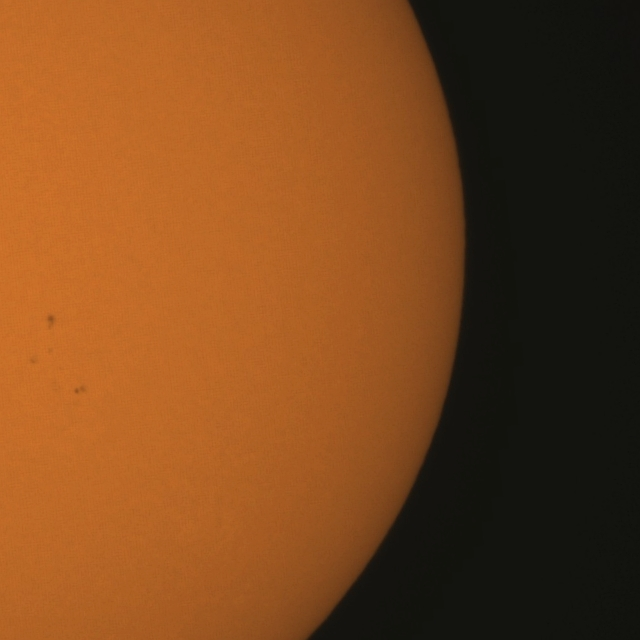sunspot: (45, 312, 56, 332), (73, 384, 88, 396)
